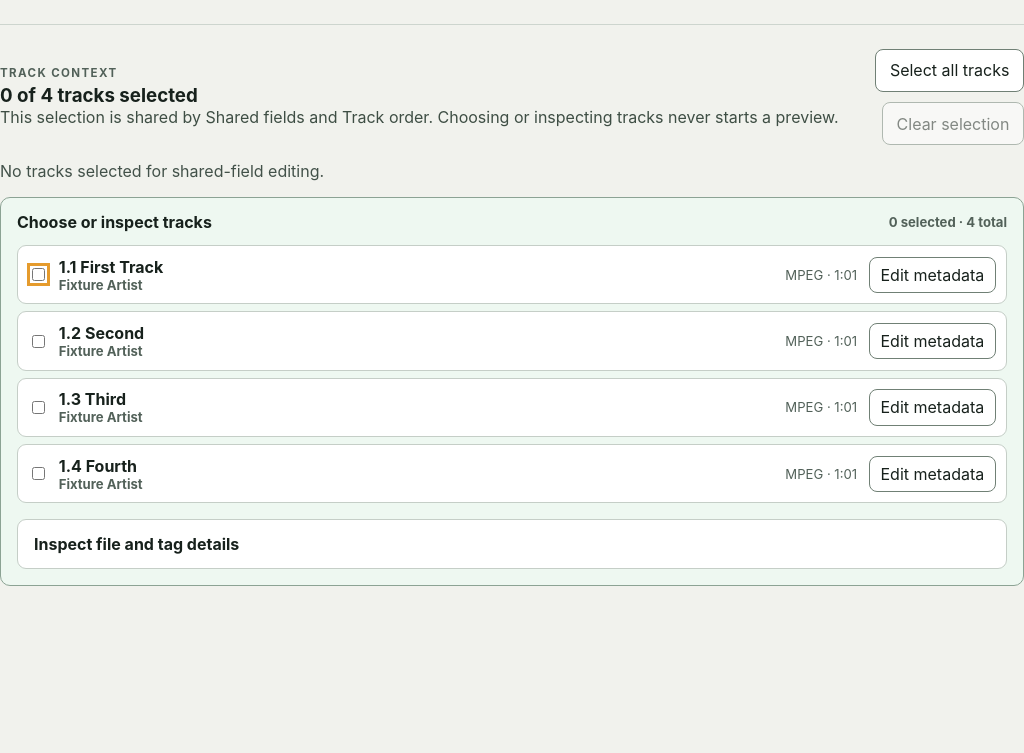
WorkbenchTrackContext › keeps selection and technical inspection keyboard accessible
The image size is (1024, 753).
Type keys " "
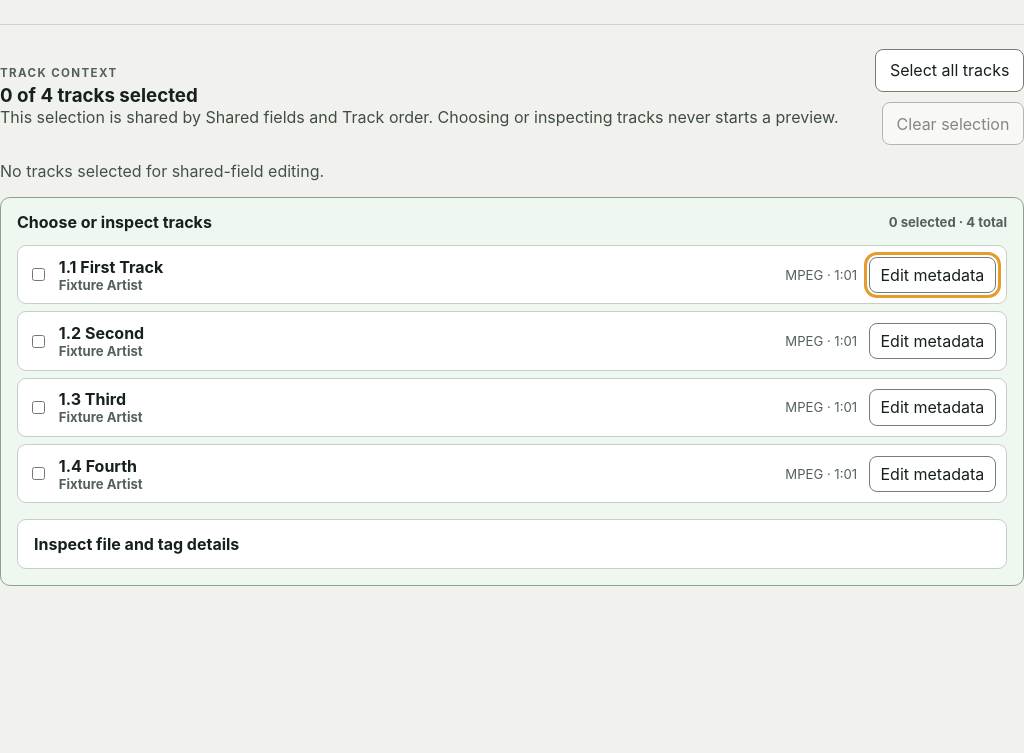
Press Enter
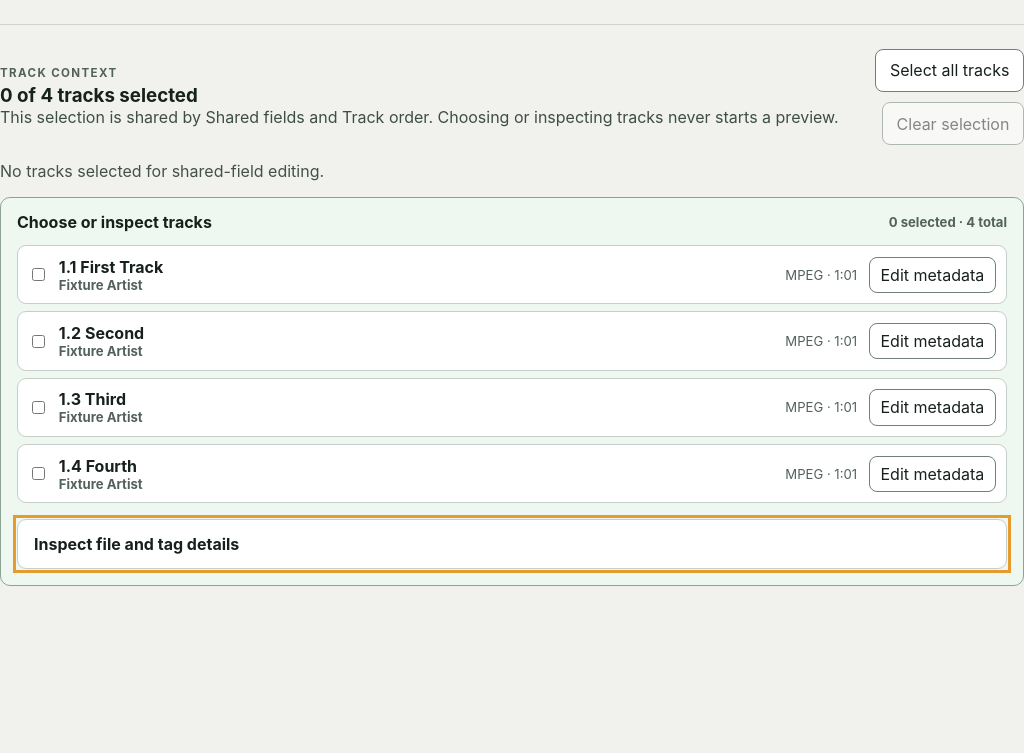
Click the heading "Inspect file and tag details" at (137, 544), box [34,534,239,554]
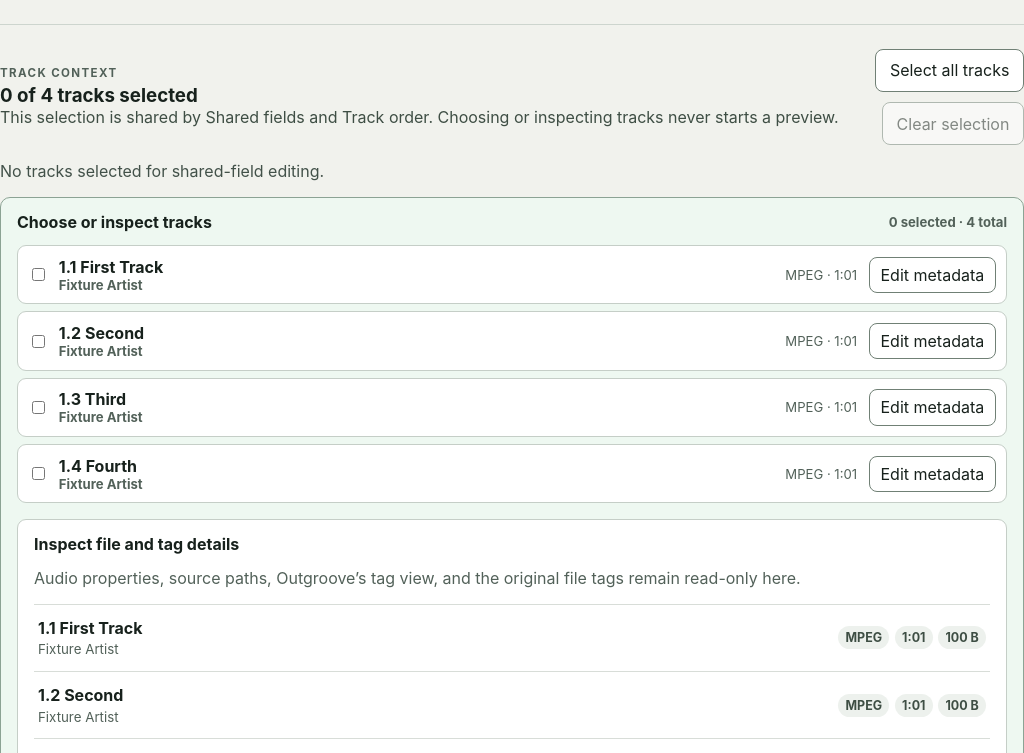
Expected: the text "1.1 First Track" below "Inspect file and tag details" is shown, [38,618,142,638]
